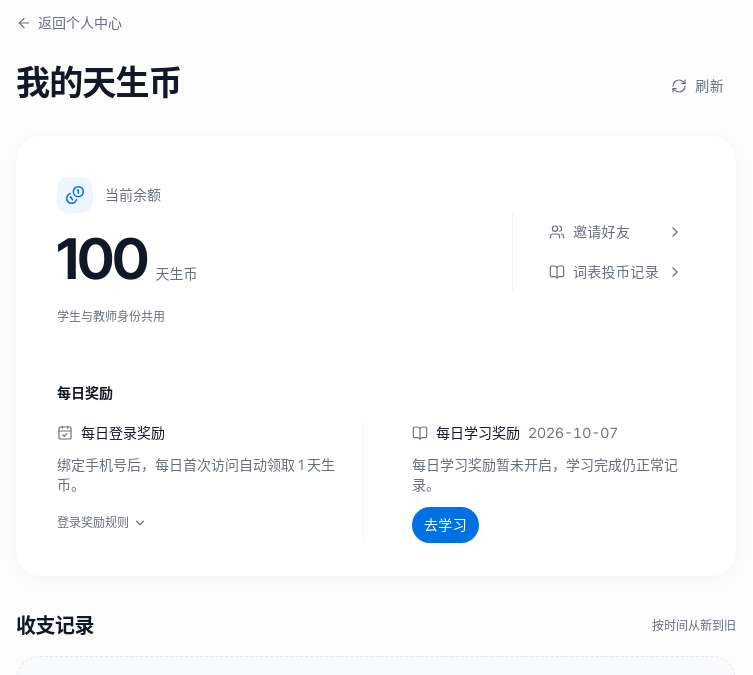
Test: does not present a cached balance as current after refresh fails
Expected: the element labelled "100 天生币" is shown, [57,225,198,295]
Click the button "刷新" at coordinates (698, 86), box [659,68,736,104]
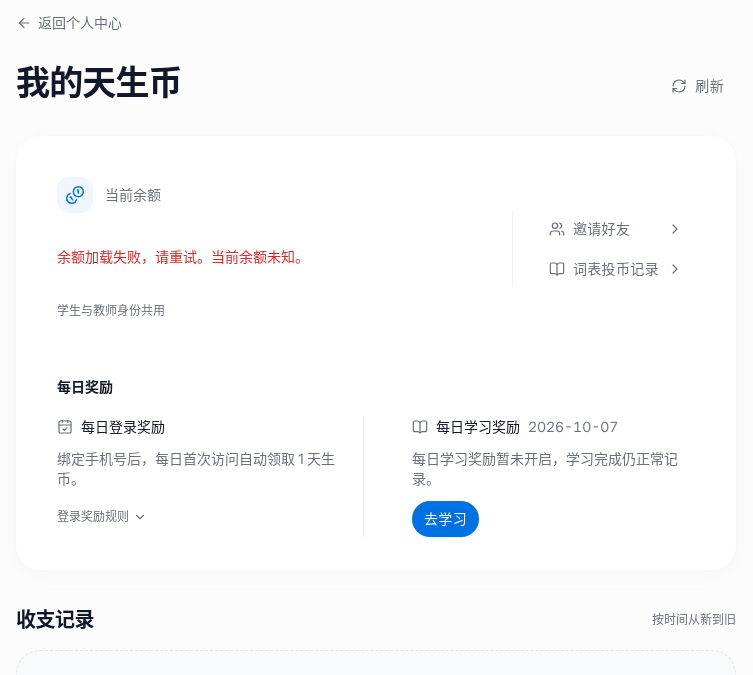
Expected: the text "余额加载失败，请重试。当前余额未知。" is shown, [57,245,309,269]
Expected: the field labelled "100 天生币" is gone
Expected: the field labelled "0 天生币" is gone
